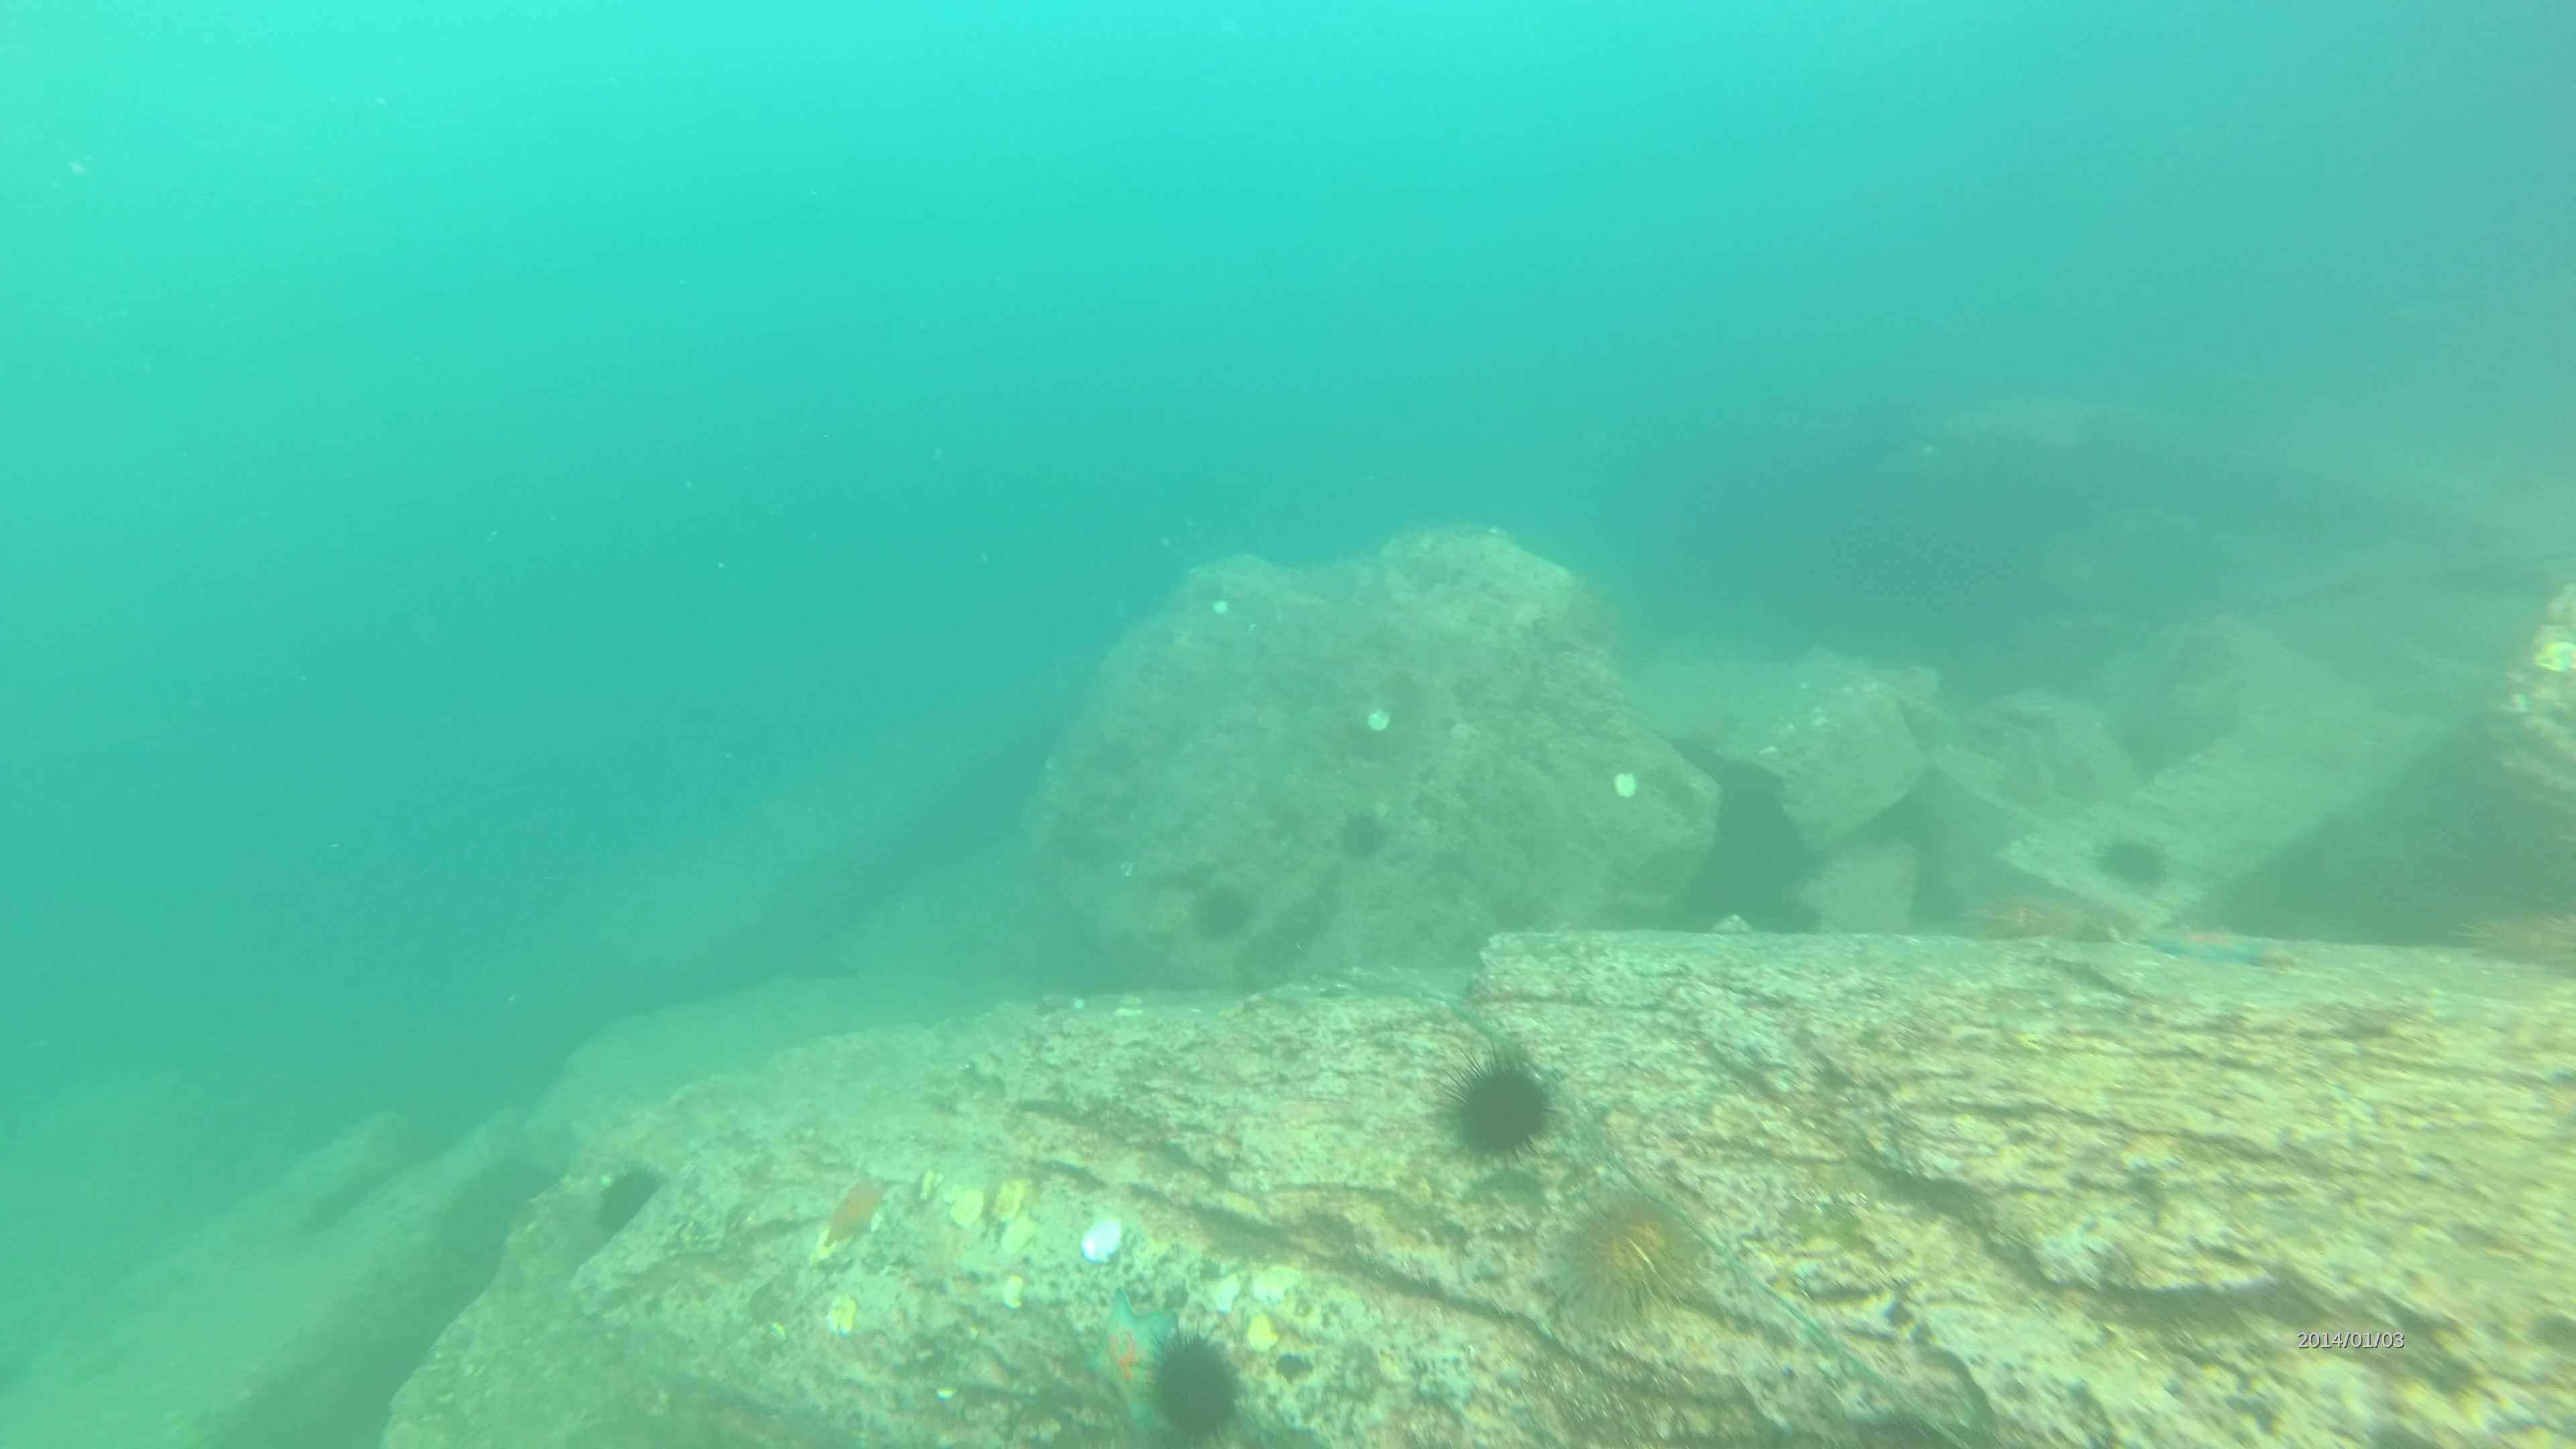echinus: (1559, 1185, 1690, 1325), (1442, 1049, 1562, 1161), (1143, 1330, 1244, 1437), (1969, 883, 2088, 955), (589, 1169, 674, 1237), (1189, 878, 1253, 945), (2100, 839, 2169, 897), (1336, 810, 1387, 858)
starfish: (1063, 1295, 1187, 1410), (2139, 918, 2258, 962)
